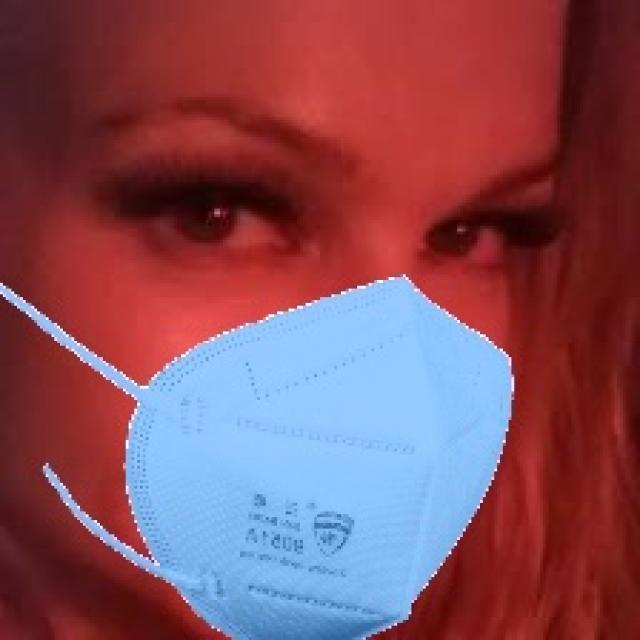mask: (16, 240, 552, 640)
